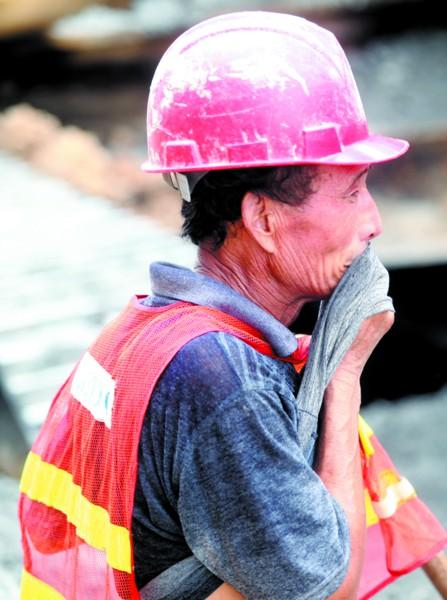helmet: (134, 13, 393, 183)
